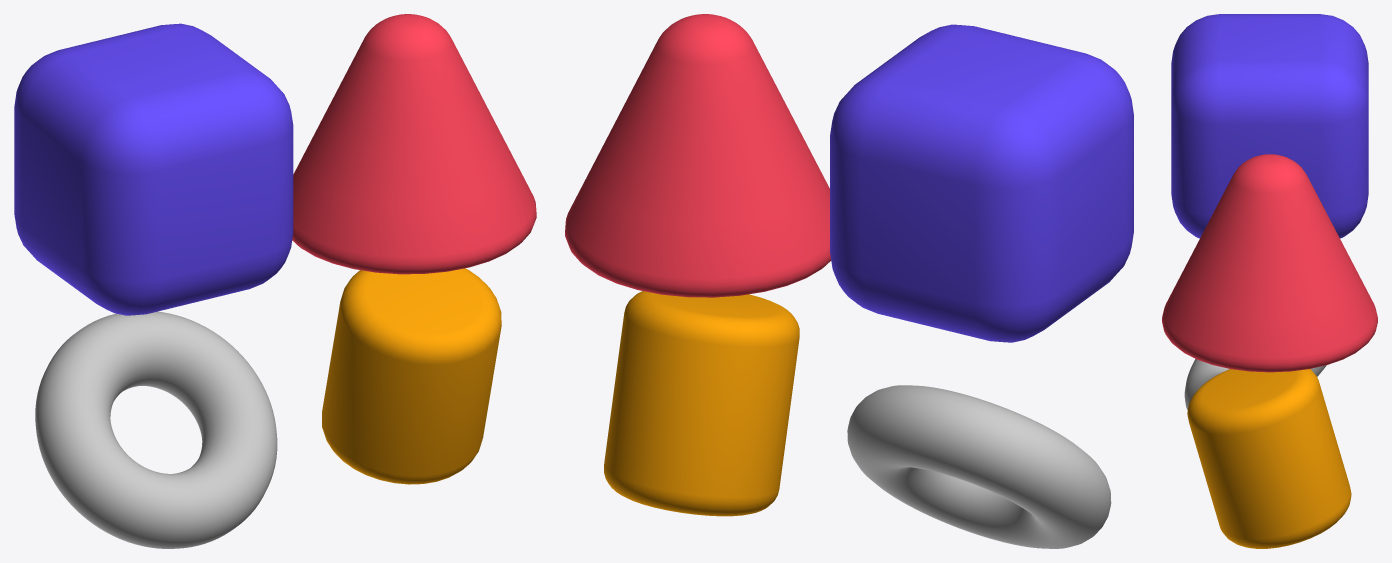
Rendered from rotating-shapes-loading-animated-3d-icon-1008190404531.glb.
3 views of the same model, side by side, from view 1: azimuth 30°, elevation 25°; view 2: azimuth 150°, elevation 25°; view 3: azimuth 270°, elevation 25° (orthographic). The views are drawn at different scales.
Visible parts, largest first — view 1: Cube.004, Cylinder, Torus, Cylinder.001; view 2: Cube.004, Cylinder, Cylinder.001, Torus; view 3: Cube.004, Cylinder, Cylinder.001, Torus.
Part boxes in pixels (left/top/right/bottom): Cube.004: left=14, top=23, right=293, bottom=315; Cylinder: left=292, top=14, right=536, bottom=274; Torus: left=35, top=311, right=277, bottom=548; Cylinder.001: left=322, top=268, right=501, bottom=484; Cube.004: left=830, top=24, right=1133, bottom=342; Cylinder: left=565, top=14, right=831, bottom=297; Cylinder.001: left=604, top=291, right=799, bottom=516; Torus: left=847, top=385, right=1111, bottom=548; Cube.004: left=1171, top=14, right=1368, bottom=238; Cylinder: left=1162, top=154, right=1377, bottom=372; Cylinder.001: left=1187, top=369, right=1351, bottom=548; Torus: left=1184, top=359, right=1326, bottom=409.
Size of the model in its own units: 1.86 by 1.75 by 0.8767.
